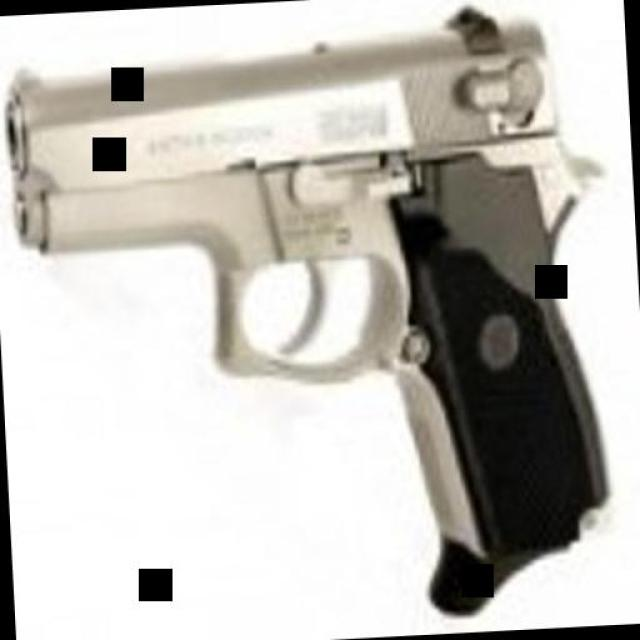gun: (0, 0, 629, 638)
